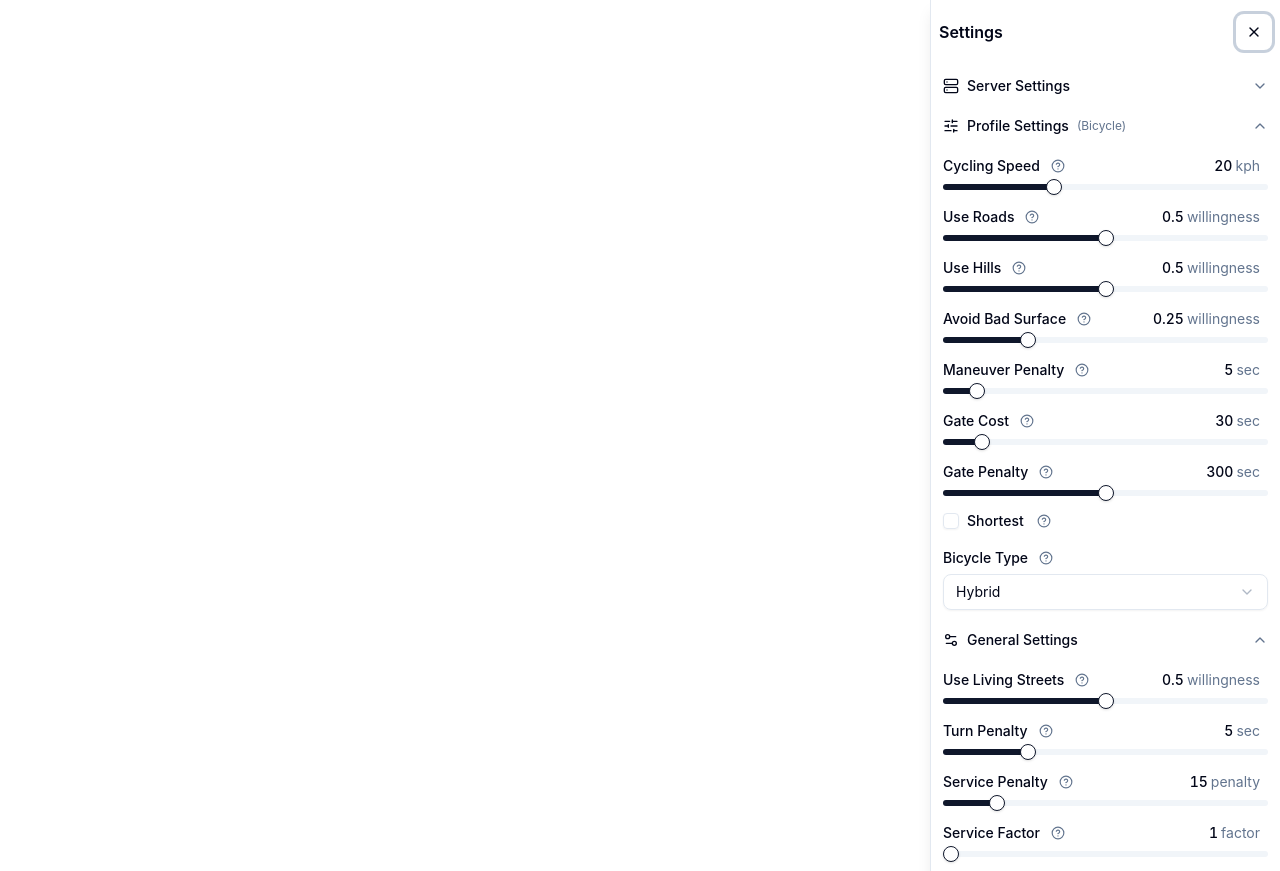
Scenario: SettingsPanel › Server Settings › should display stored base URL from localStorage
The image size is (1280, 871).
Click the button "Server Settings". click: (1018, 86)
box: [943,72,1268,100]
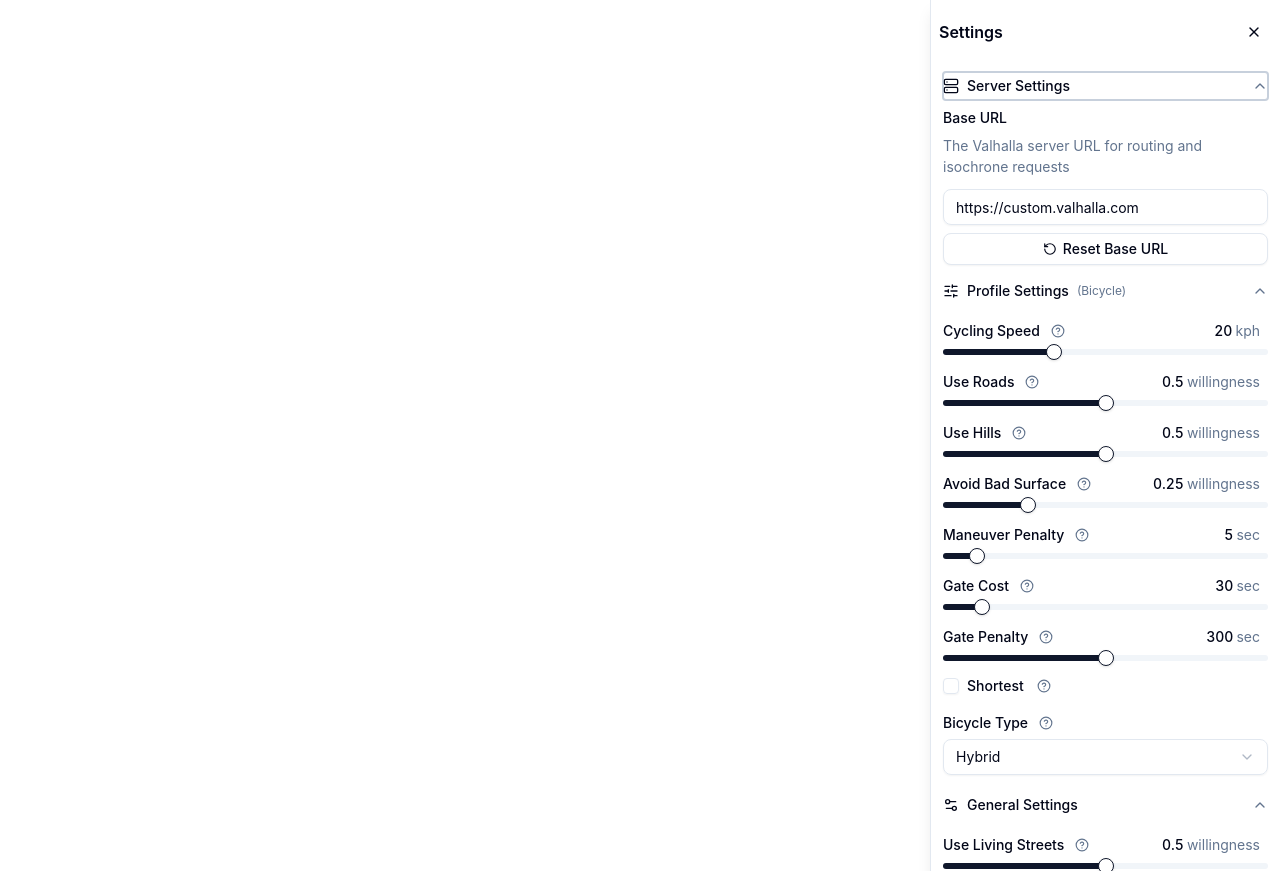
Result: the field labelled "Base URL" holds "https://custom.valhalla.com" at [943,189,1268,225]
